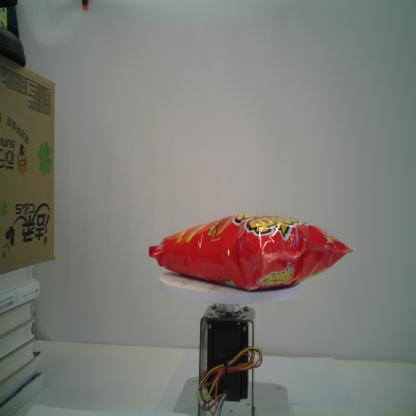Puffed Food: (148, 212, 355, 296)
